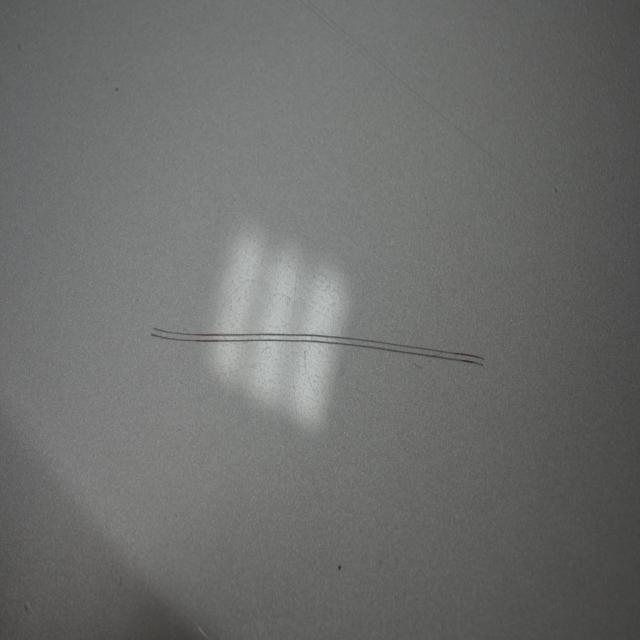dirt: (333, 560, 344, 572)
scratch: (146, 312, 487, 377)
